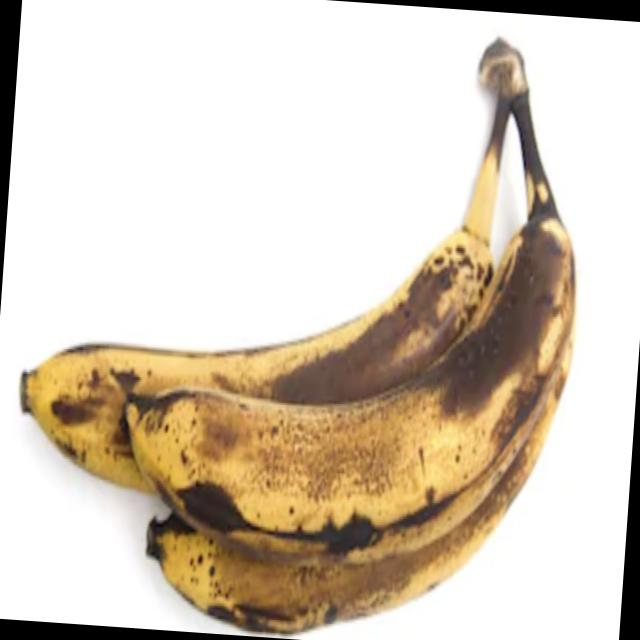rotten-banana: (135, 240, 588, 548), (59, 182, 470, 452), (164, 507, 480, 640)
